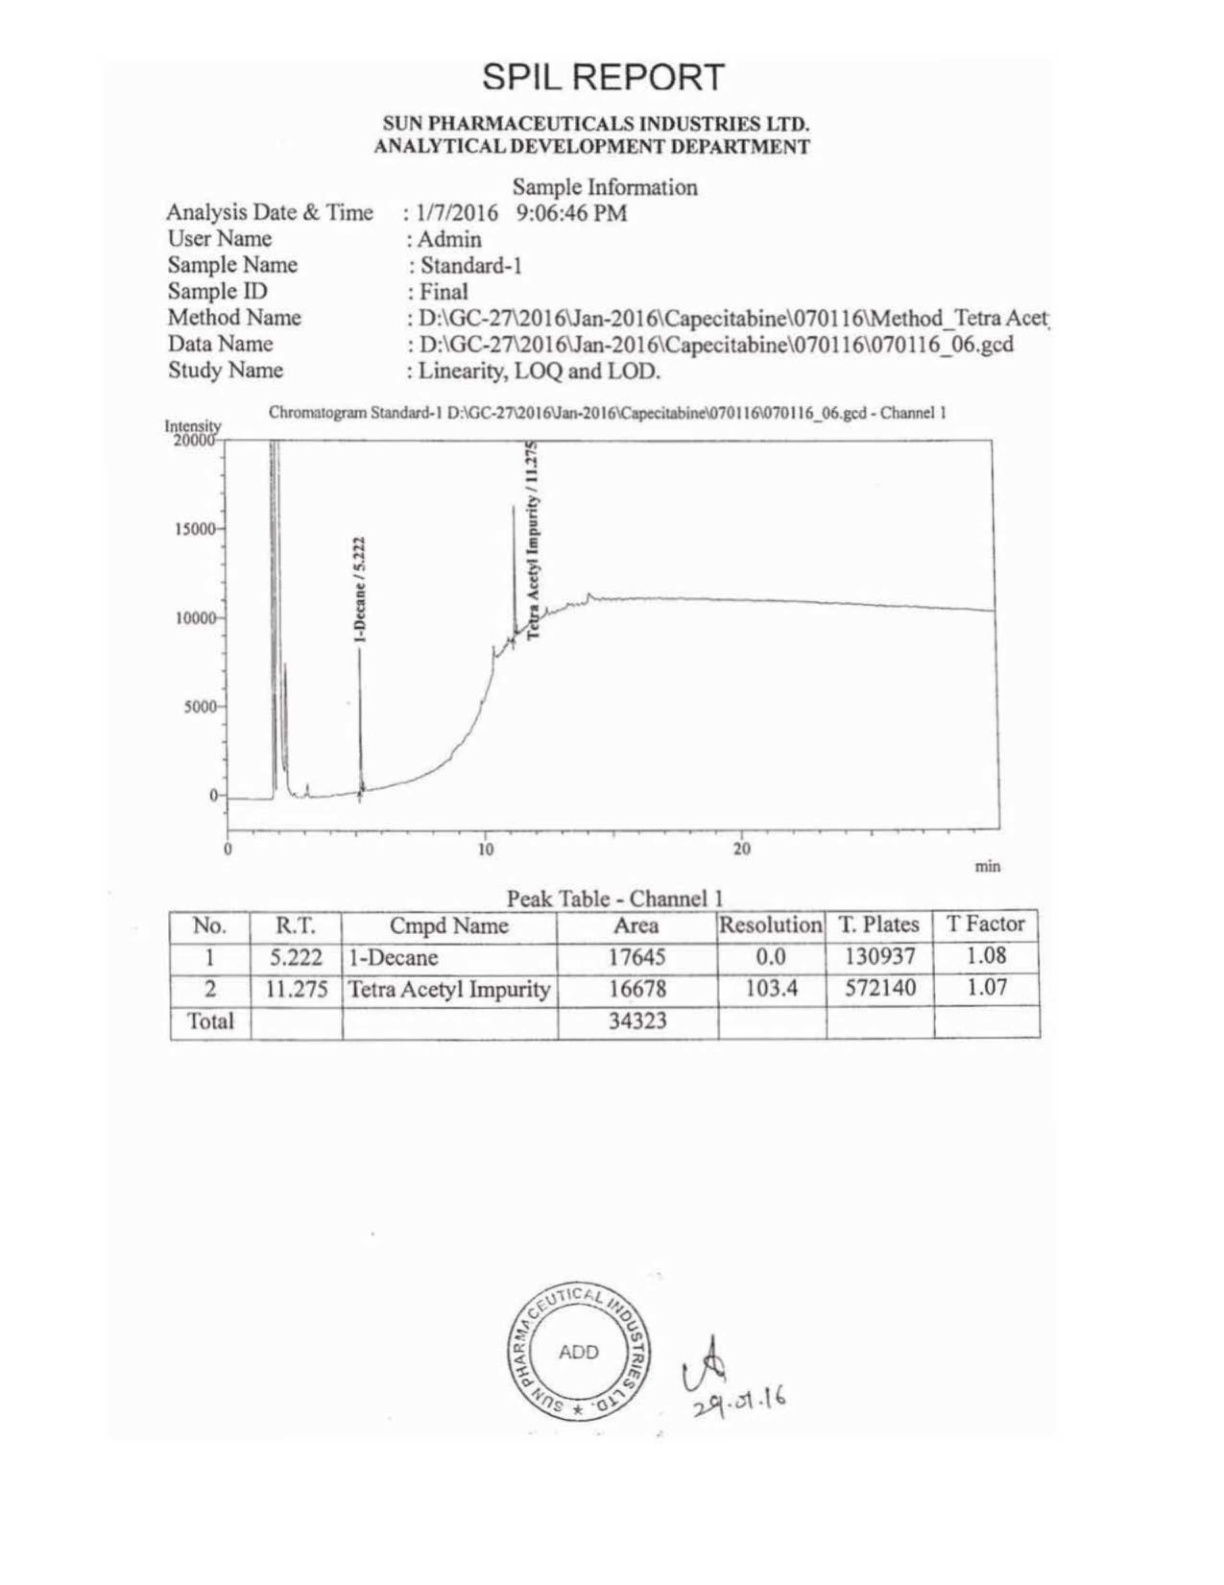full_lined: (168, 908, 1041, 1043)
nolines: (157, 198, 1056, 387)
